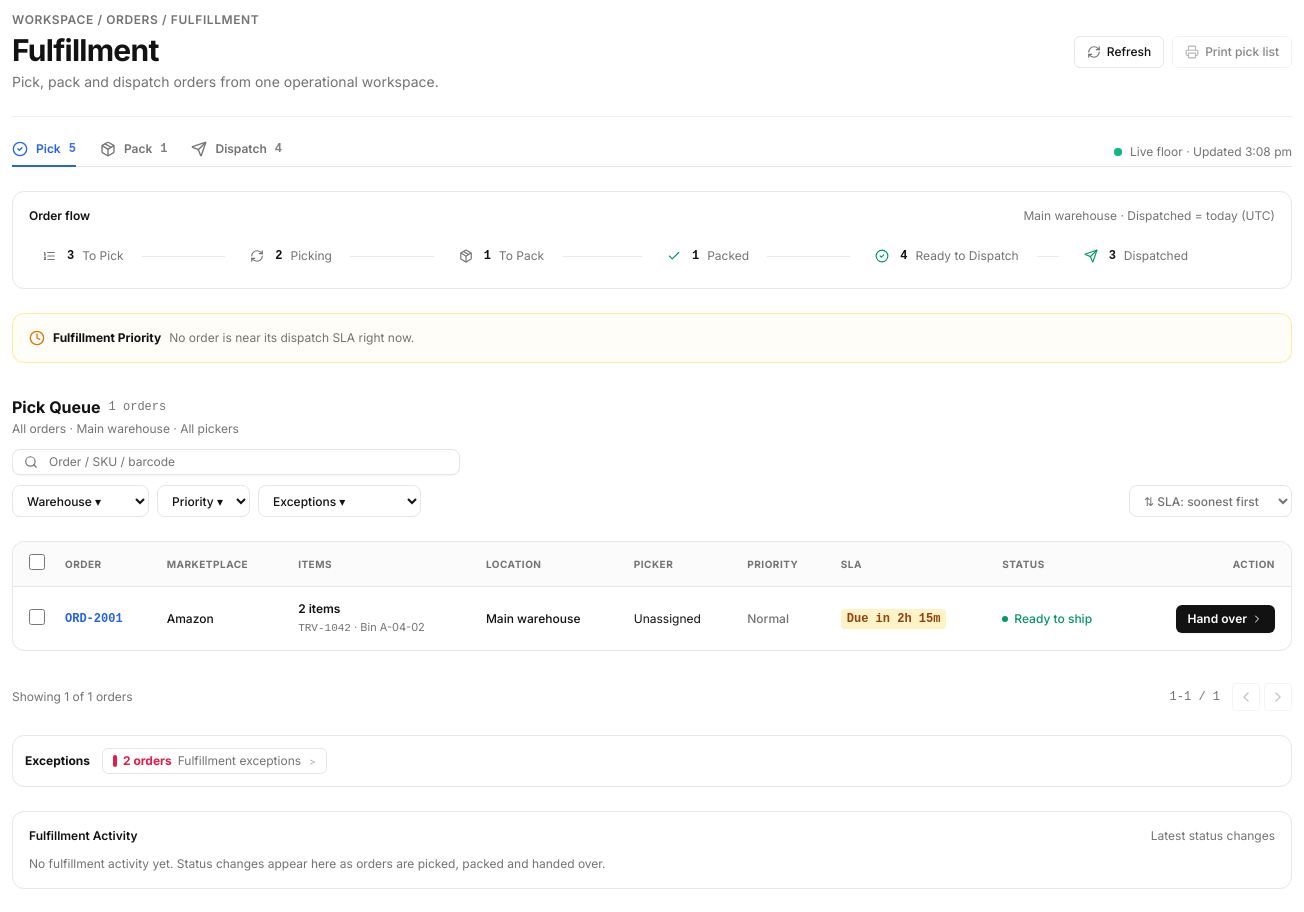
row actions and bulk › hand-over is off without shipping:write
Step 1. Click the checkbox named "Select ORD-2001" → (37,616), box [29,608,45,624]
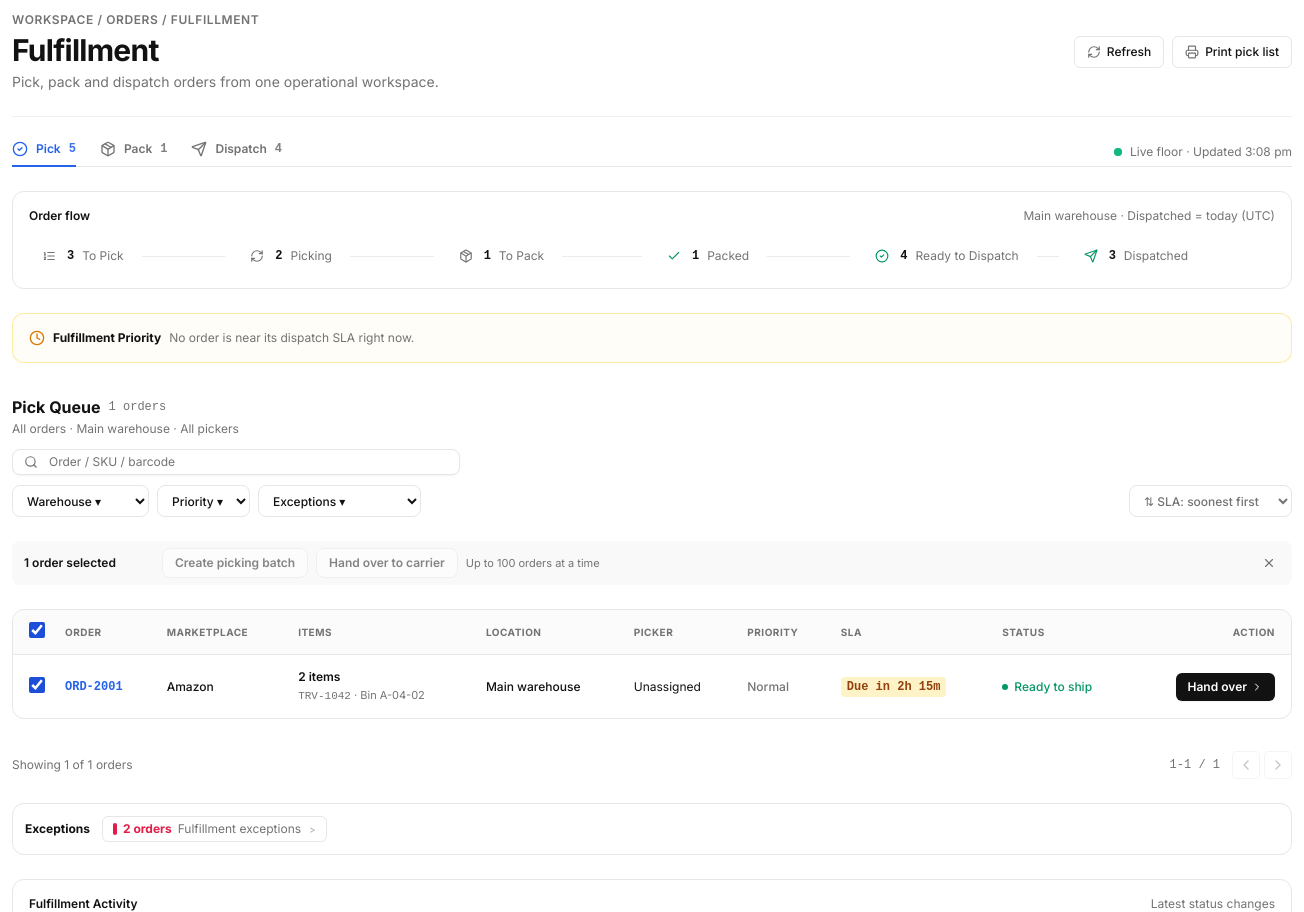
Now the button "Hand over to carrier" is disabled, box [316,548,458,578]
